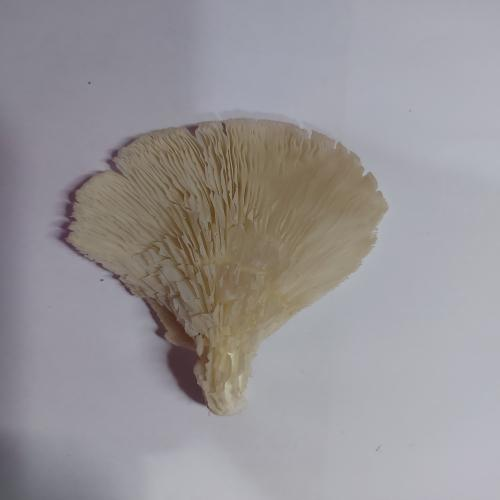Oyster Mushroom: (63, 116, 389, 417)
